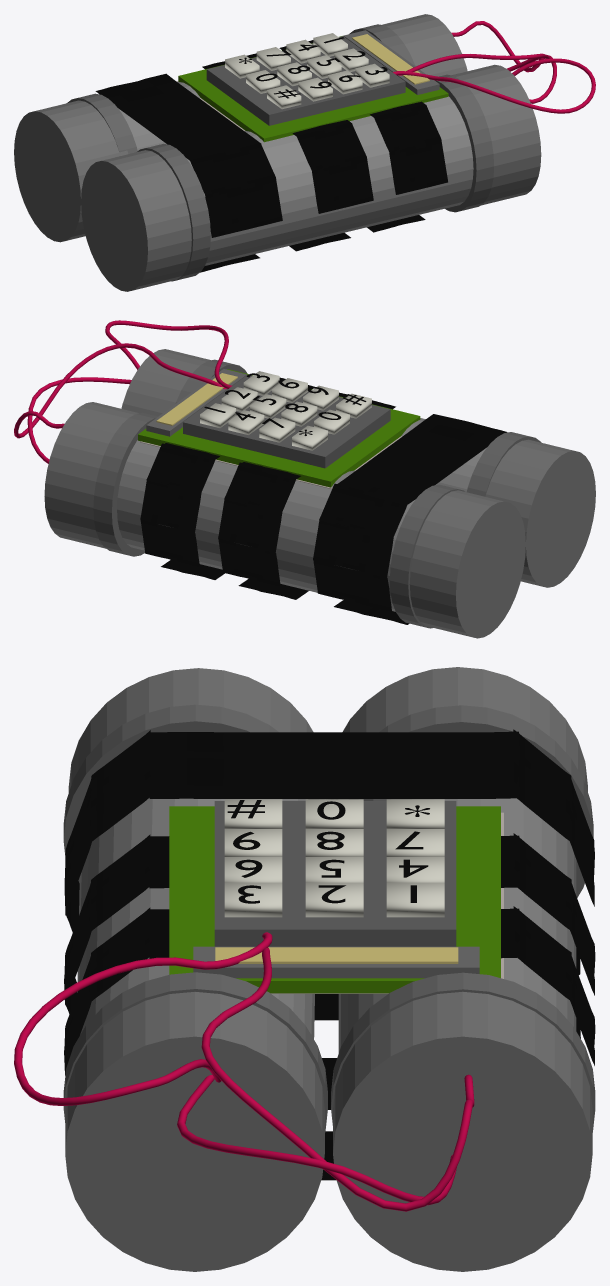
3 renders of one model, top to bottom at view 1: azimuth 30°, elevation 25°; view 2: azimuth 150°, elevation 25°; view 3: azimuth 270°, elevation 25°, orthographic. The views are drawn at different scales.
Parts seen in each view (by area): view 1: body; view 2: body; view 3: body.
Boxes of the visible parts, bbox=[...] form: body: bbox=[14, 14, 595, 291]; body: bbox=[14, 320, 595, 638]; body: bbox=[14, 667, 595, 1271].
Size of the model in its own units: 0.3 by 0.0852 by 0.1668.
